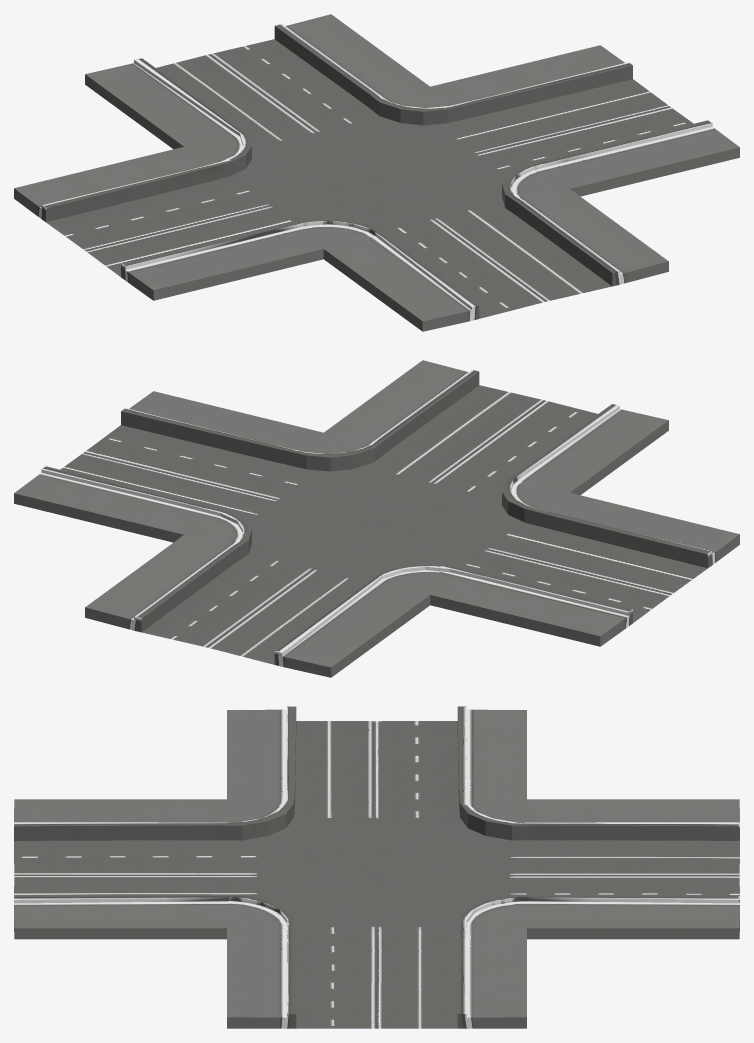
The model's file is XRoad 1.fbx.
3 views of the same model, one above another, from view 1: azimuth 30°, elevation 25°; view 2: azimuth 150°, elevation 25°; view 3: azimuth 270°, elevation 25° (orthographic). The views are drawn at different scales.
Visible parts, largest first — view 1: Xroad; view 2: Xroad; view 3: Xroad.
Part boxes in pixels (box(x1,y1,x2,y2)): Xroad: box(14, 14, 739, 331); Xroad: box(14, 360, 739, 677); Xroad: box(14, 706, 739, 1028).
Bounding box in the file's own units: 500 × 11.95 × 498.
